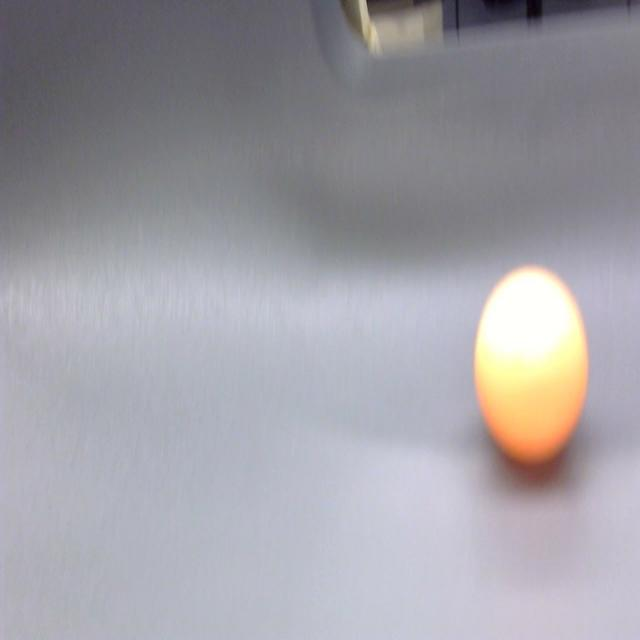ball: (472, 265, 590, 470)
